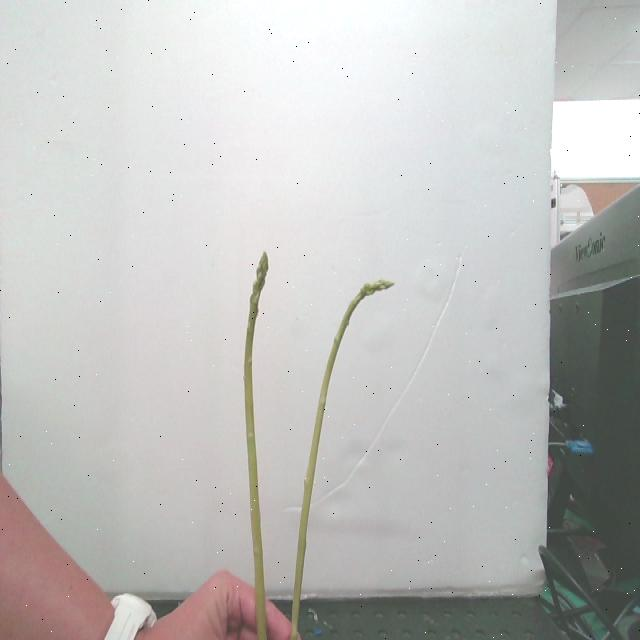aspargus: (290, 280, 392, 640), (244, 252, 270, 640)
